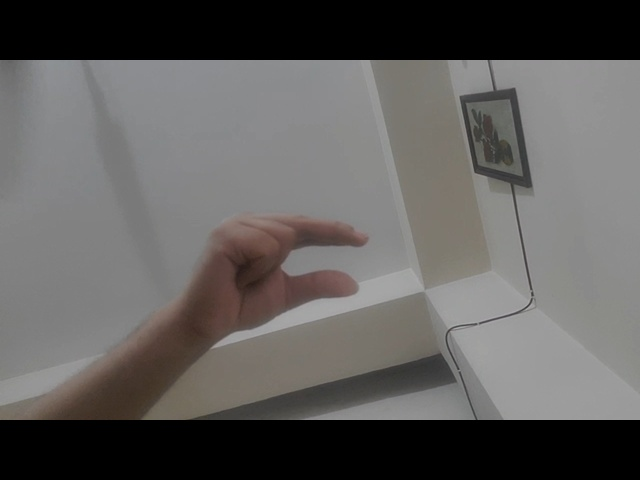No: (173, 191, 378, 345)
